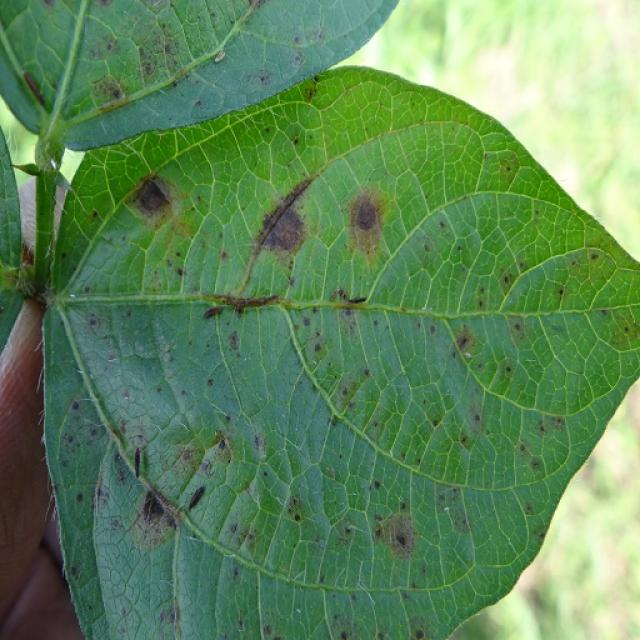Anthracnose: (252, 207, 310, 257), (116, 413, 163, 463), (377, 510, 417, 558), (137, 36, 174, 83), (331, 372, 363, 416), (134, 177, 170, 213), (90, 74, 127, 107), (606, 310, 639, 347), (87, 30, 122, 62), (329, 613, 360, 640), (496, 152, 520, 185), (23, 71, 46, 105), (453, 324, 479, 354), (355, 198, 379, 230), (338, 305, 359, 340), (143, 493, 165, 521), (285, 494, 305, 524), (507, 315, 528, 343), (246, 69, 275, 88), (160, 604, 177, 632), (188, 486, 206, 512), (85, 312, 105, 333), (303, 78, 319, 102), (331, 286, 350, 304), (227, 330, 240, 352), (203, 306, 224, 319), (312, 27, 325, 42), (253, 434, 263, 453), (302, 316, 311, 326), (71, 401, 80, 411), (219, 438, 227, 449), (373, 480, 381, 490), (176, 267, 184, 277), (76, 492, 84, 502), (220, 250, 228, 260), (264, 625, 272, 635), (194, 99, 202, 107), (363, 368, 370, 377), (207, 378, 214, 387), (591, 253, 599, 260), (415, 634, 424, 640), (558, 289, 564, 296)
Blackgram: (24, 69, 635, 639)
